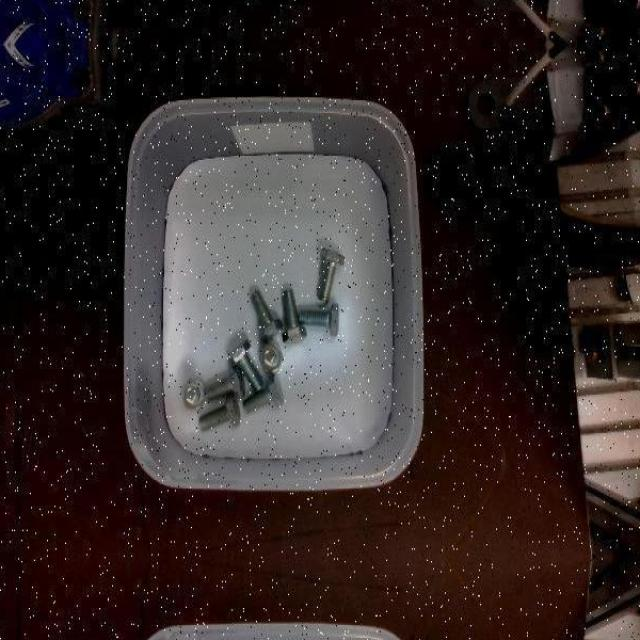screw: (228, 338, 264, 391), (250, 289, 282, 342), (242, 374, 284, 414), (200, 392, 241, 431), (204, 364, 245, 401), (318, 248, 344, 302), (283, 288, 308, 343), (299, 303, 339, 337), (259, 342, 284, 374), (181, 379, 206, 411)
